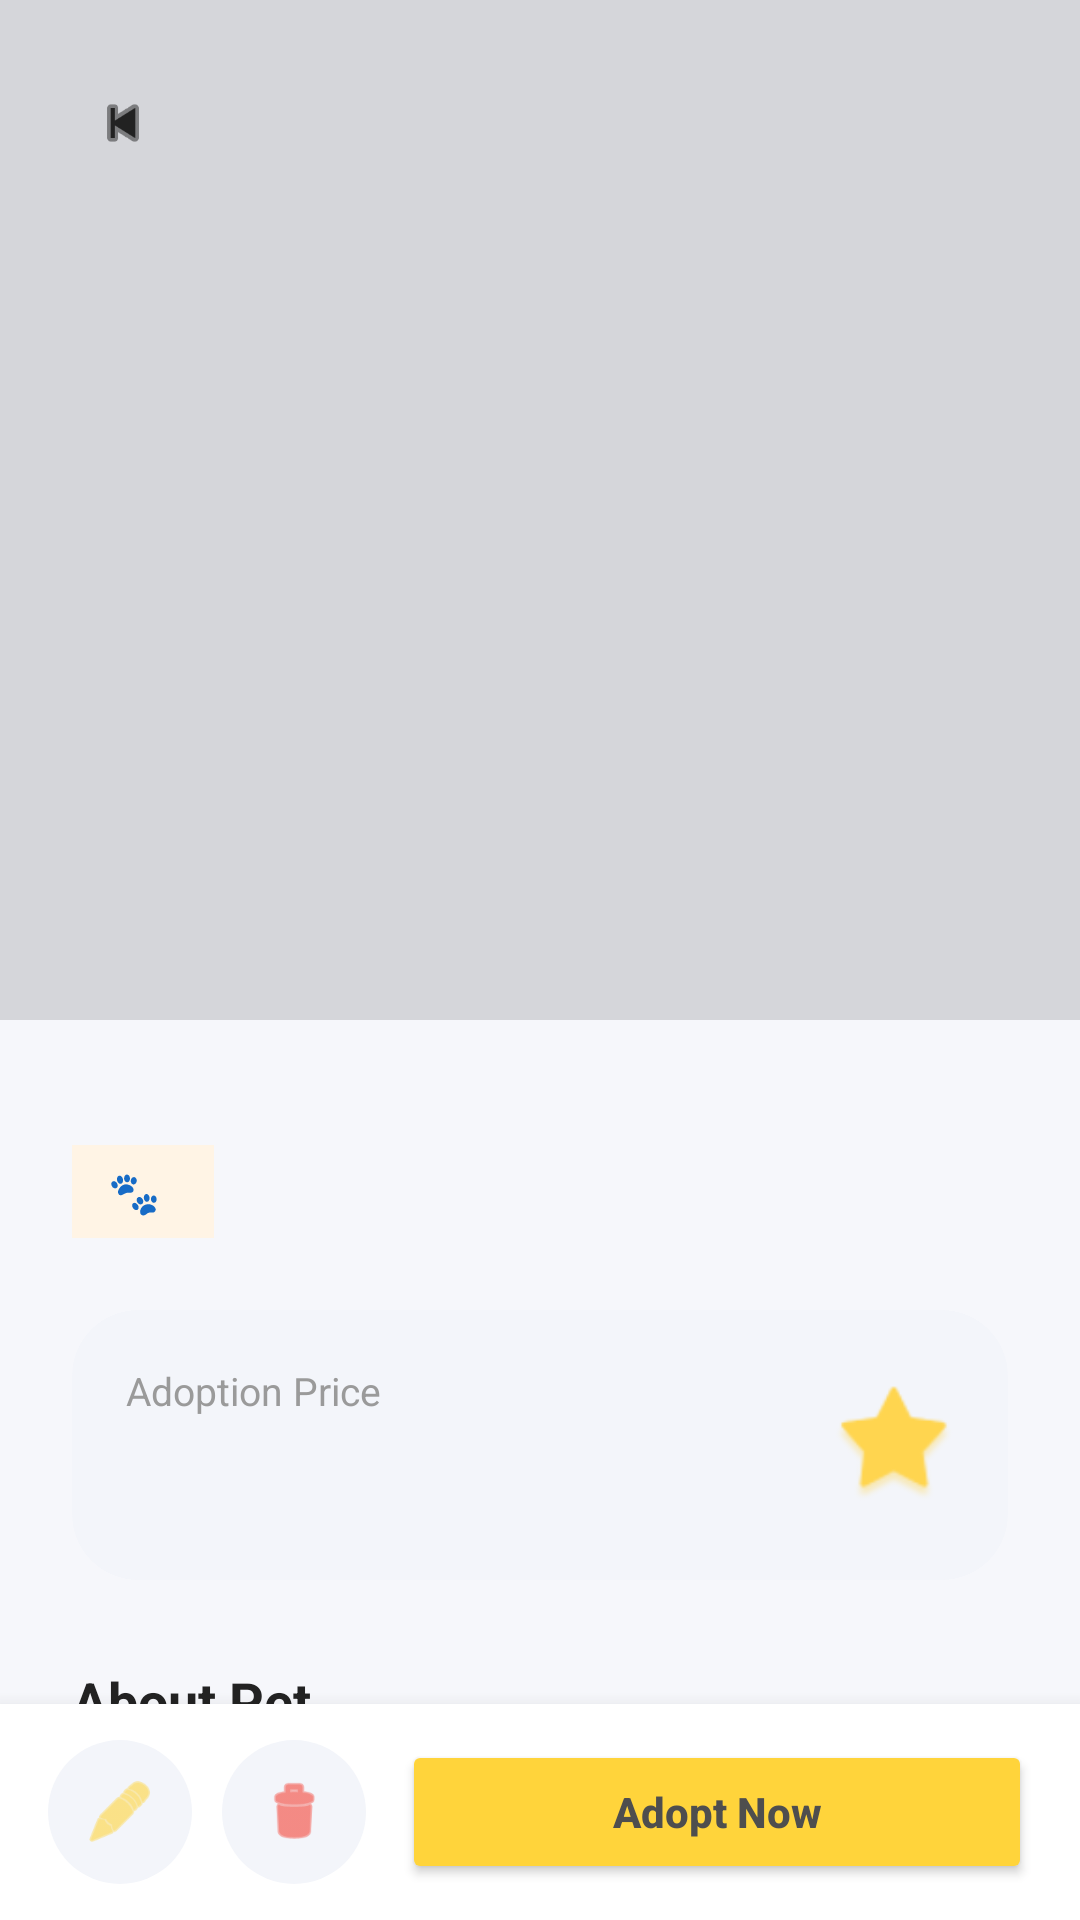

Icon click points for this 1080w x 1920h phone screenshot, format (x,y):
delete: (294,1811)
edit: (120,1812)
previous: (123,123)
star on: (894,1440)
